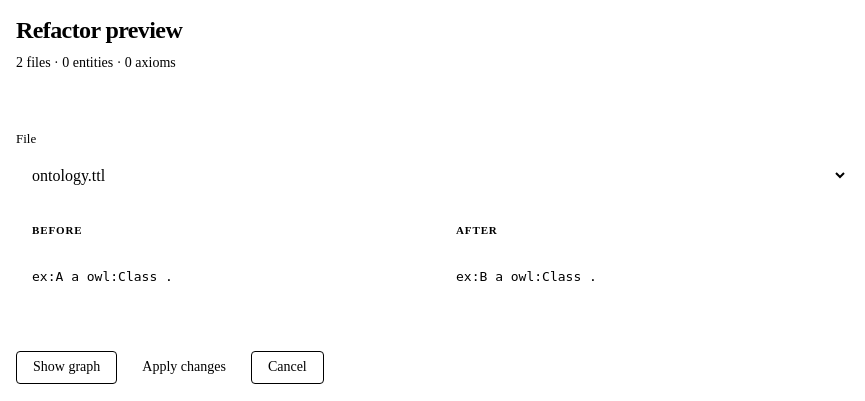
Test case: RefactorPreviewPanel › switches between multiple file diffs
This screenshot has width=865, height=401.
Expected: the heading "Refactor preview" is shown, [16,16,182,45]
Expected: the text "ex:A a owl:Class ." is shown, [32,269,173,284]
Select "imports.ttl" in the dropdown labelled "File" at point(432, 176), box [16,157,848,194]
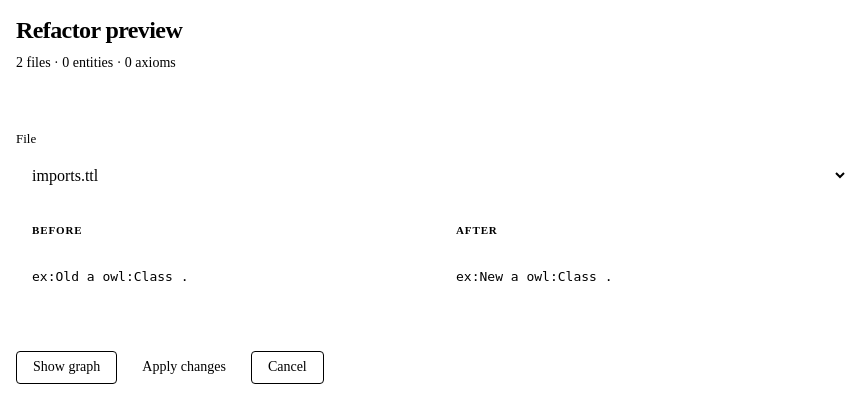
Now the text "ex:Old a owl:Class ." is shown, box [32,269,188,284]
Now the text "ex:New a owl:Class ." is shown, box [456,269,612,284]
